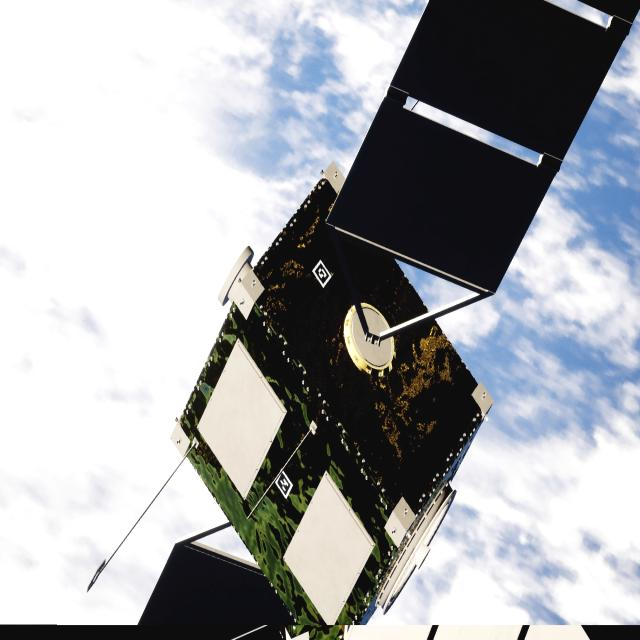satellite: (139, 0, 640, 640)
